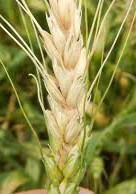Wheat scab: (31, 5, 96, 188)
